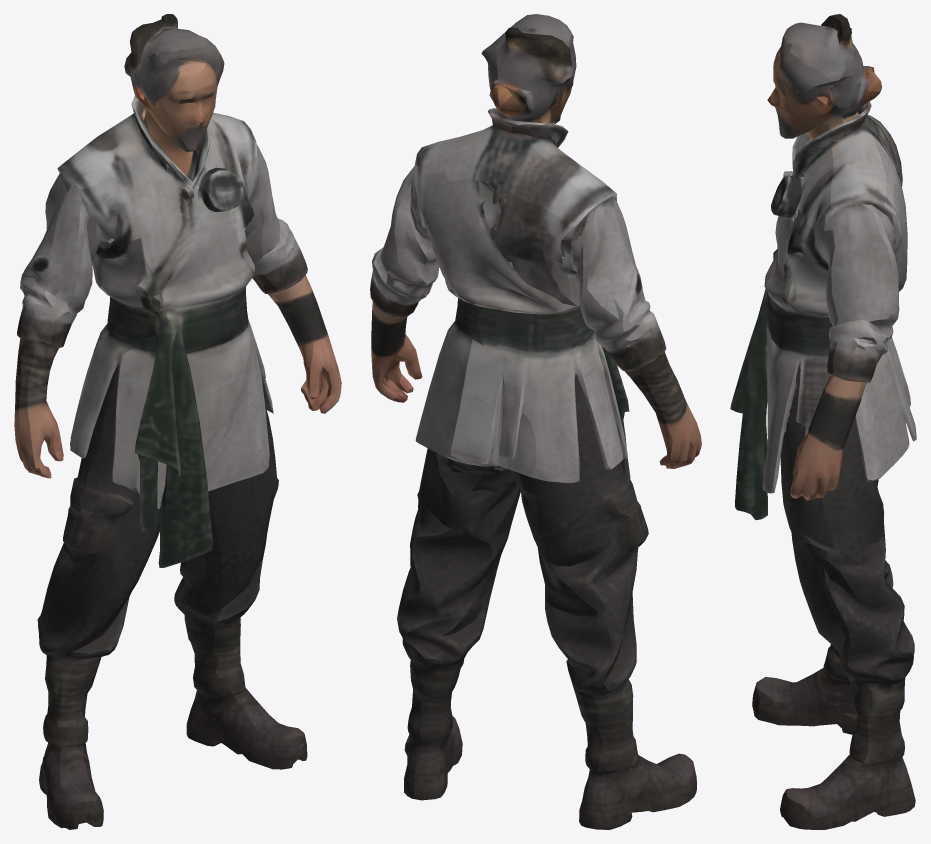
Rendered from N05-original.glb.
3 views of the same model, side by side, from view 1: azimuth 30°, elevation 25°; view 2: azimuth 150°, elevation 25°; view 3: azimuth 270°, elevation 25° (orthographic).
Parts seen in each view (by area): view 1: world; view 2: world; view 3: world.
Part boxes in pixels (box(x1,y1,x2,y2)): world: box(14, 14, 341, 829); world: box(370, 14, 701, 829); world: box(730, 14, 916, 829).
Size of the model in its own units: 0.789 by 1.8 by 0.406.
1 material, 1 textured.
